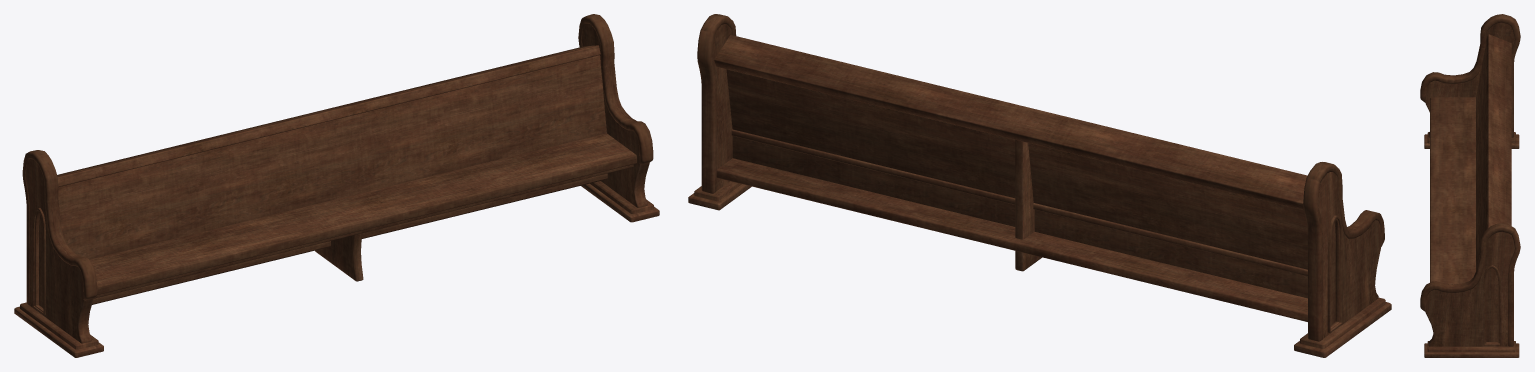
The model's file is Chair_A.fbx.
3 views of the same model, side by side, from view 1: azimuth 30°, elevation 25°; view 2: azimuth 150°, elevation 25°; view 3: azimuth 270°, elevation 25° (orthographic). The views are drawn at different scales.
Visible parts, largest first — view 1: Chair_A; view 2: Chair_A; view 3: Chair_A.
Boxes of the visible parts, x1,y1,x2,y2 form: Chair_A: [14, 14, 659, 357]; Chair_A: [688, 14, 1391, 357]; Chair_A: [1420, 14, 1520, 357].
Bounding box in the file's own units: 5.99 × 1.63 × 1.16.
